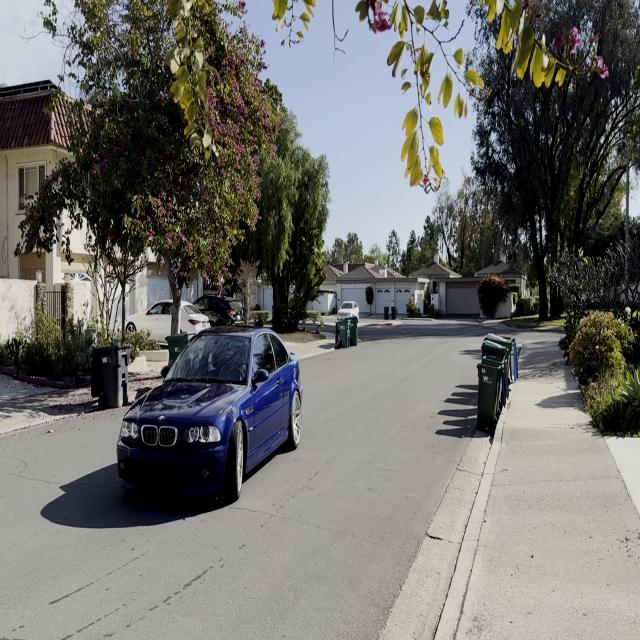Carbeetle: (108, 307, 311, 525)
